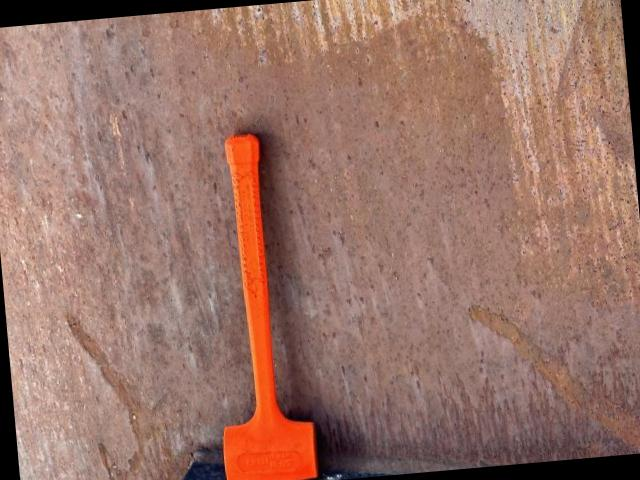hammer: (195, 130, 320, 480)
